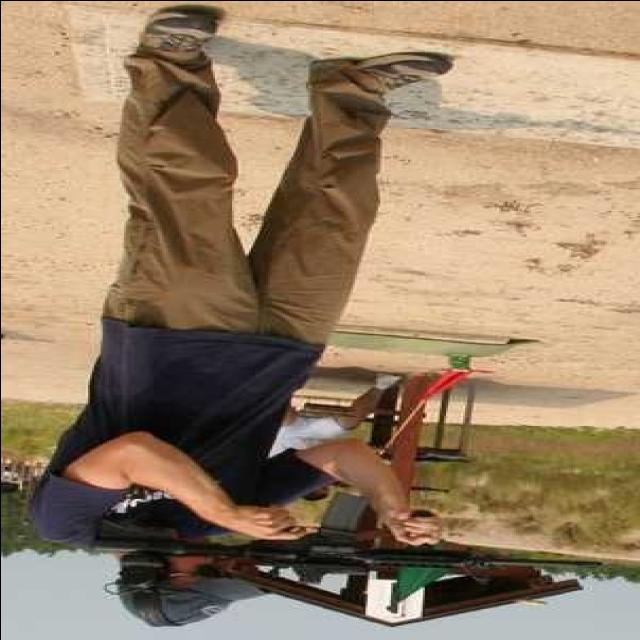heavyweapon: (71, 472, 624, 591)
